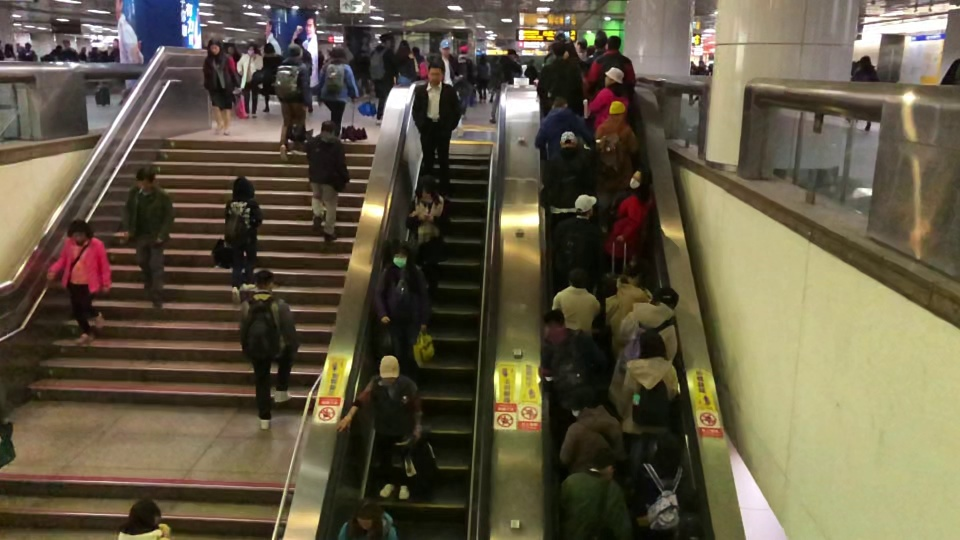person_head: (127, 497, 161, 528), (654, 431, 681, 466), (565, 385, 594, 414), (639, 329, 667, 358), (542, 309, 565, 341), (390, 240, 415, 269), (377, 353, 401, 382), (593, 447, 616, 477), (230, 174, 255, 201), (354, 500, 377, 529), (573, 192, 597, 218), (133, 164, 156, 190), (652, 286, 679, 308), (603, 65, 626, 89), (67, 219, 91, 241), (628, 167, 652, 189), (416, 173, 436, 199), (636, 263, 655, 288), (254, 268, 274, 290), (567, 266, 587, 287), (607, 99, 627, 117), (558, 131, 578, 149), (426, 61, 443, 82), (318, 119, 335, 137), (604, 34, 622, 51), (206, 39, 222, 55), (377, 31, 394, 46), (288, 43, 303, 58), (261, 41, 275, 57), (439, 39, 451, 57), (551, 43, 565, 57), (396, 39, 409, 54), (330, 47, 346, 59), (594, 37, 607, 50), (551, 96, 566, 107), (575, 39, 587, 51), (859, 55, 870, 67), (246, 42, 255, 55), (227, 43, 236, 55), (293, 36, 302, 48), (62, 38, 71, 48), (411, 45, 420, 55), (459, 45, 468, 55), (507, 48, 515, 59), (111, 39, 119, 48), (698, 58, 703, 66)
person_vbox: (336, 353, 423, 501), (239, 269, 299, 431), (607, 286, 679, 416), (46, 219, 112, 346), (620, 329, 679, 467), (120, 164, 176, 309), (373, 240, 432, 371), (411, 61, 462, 191), (630, 430, 690, 539), (541, 310, 603, 415), (561, 447, 631, 540), (594, 100, 640, 234), (558, 385, 625, 475), (404, 175, 449, 296), (306, 119, 349, 243), (223, 175, 263, 305), (601, 166, 654, 263), (274, 43, 312, 165), (541, 131, 592, 221), (604, 262, 653, 348), (553, 194, 601, 278), (316, 47, 359, 136), (550, 265, 601, 338), (534, 94, 592, 157), (202, 38, 238, 136), (585, 35, 636, 96), (536, 43, 585, 98), (587, 67, 629, 131), (440, 40, 466, 137), (369, 31, 395, 125), (488, 48, 520, 123), (339, 499, 397, 540), (850, 55, 878, 133), (236, 43, 263, 121), (261, 42, 283, 114), (395, 39, 415, 82), (58, 38, 79, 62), (695, 61, 706, 100), (110, 40, 120, 65)
